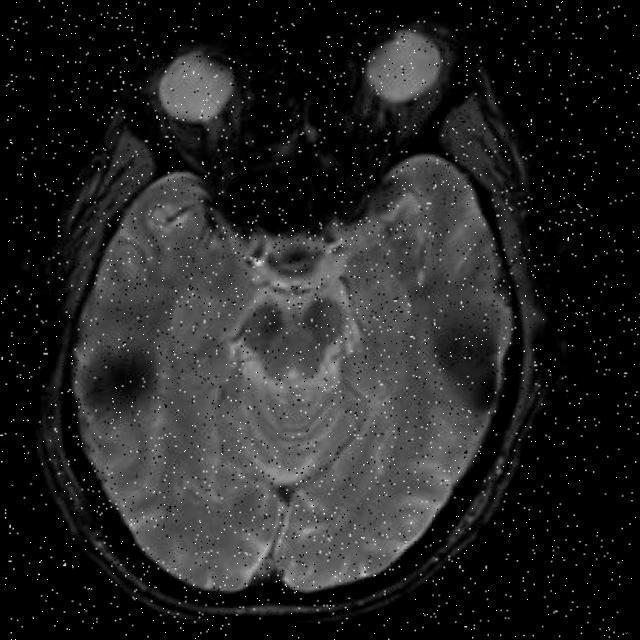EMCI: (398, 274, 528, 432), (70, 324, 215, 446)
